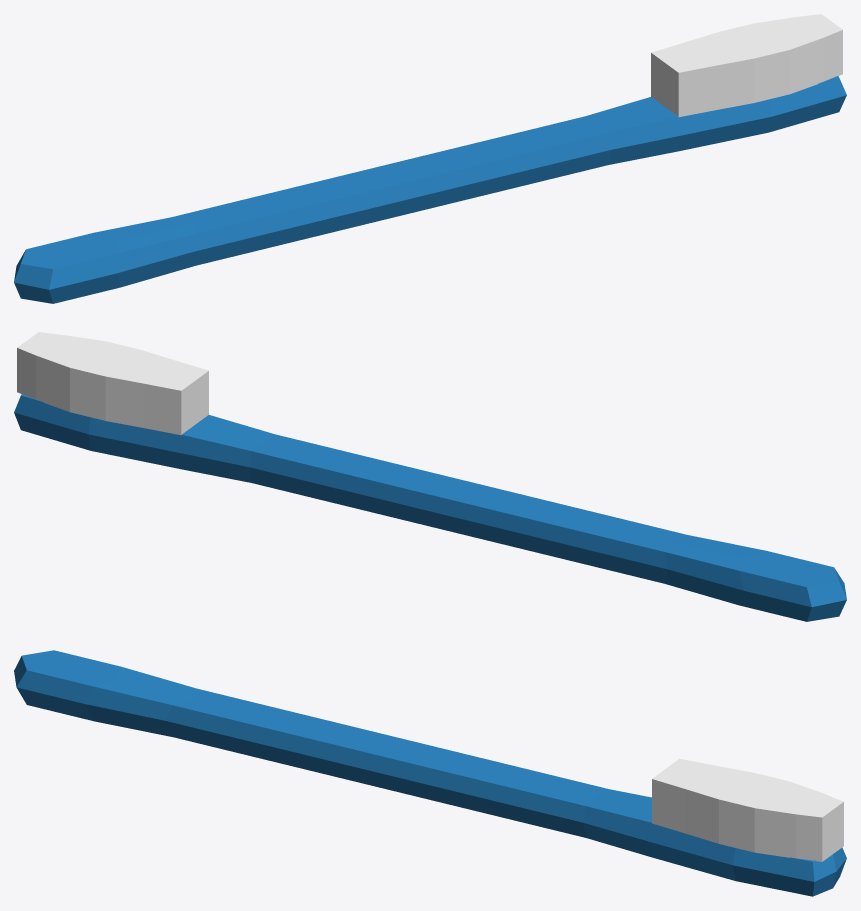
Rendered from Prop_Brush_01.fbx.
3 views of the same model, one above another, from view 1: azimuth 30°, elevation 25°; view 2: azimuth 150°, elevation 25°; view 3: azimuth 330°, elevation 25° (orthographic).
Parts seen in each view (by area): view 1: Prop_Brush_01; view 2: Prop_Brush_01; view 3: Prop_Brush_01.
Part boxes in pixels (x1,y1,x2,y2): Prop_Brush_01: (14, 14, 846, 303); Prop_Brush_01: (14, 332, 846, 621); Prop_Brush_01: (14, 650, 846, 896).
Bounding box in the file's own units: 28.11 × 2.57 × 2.34.
